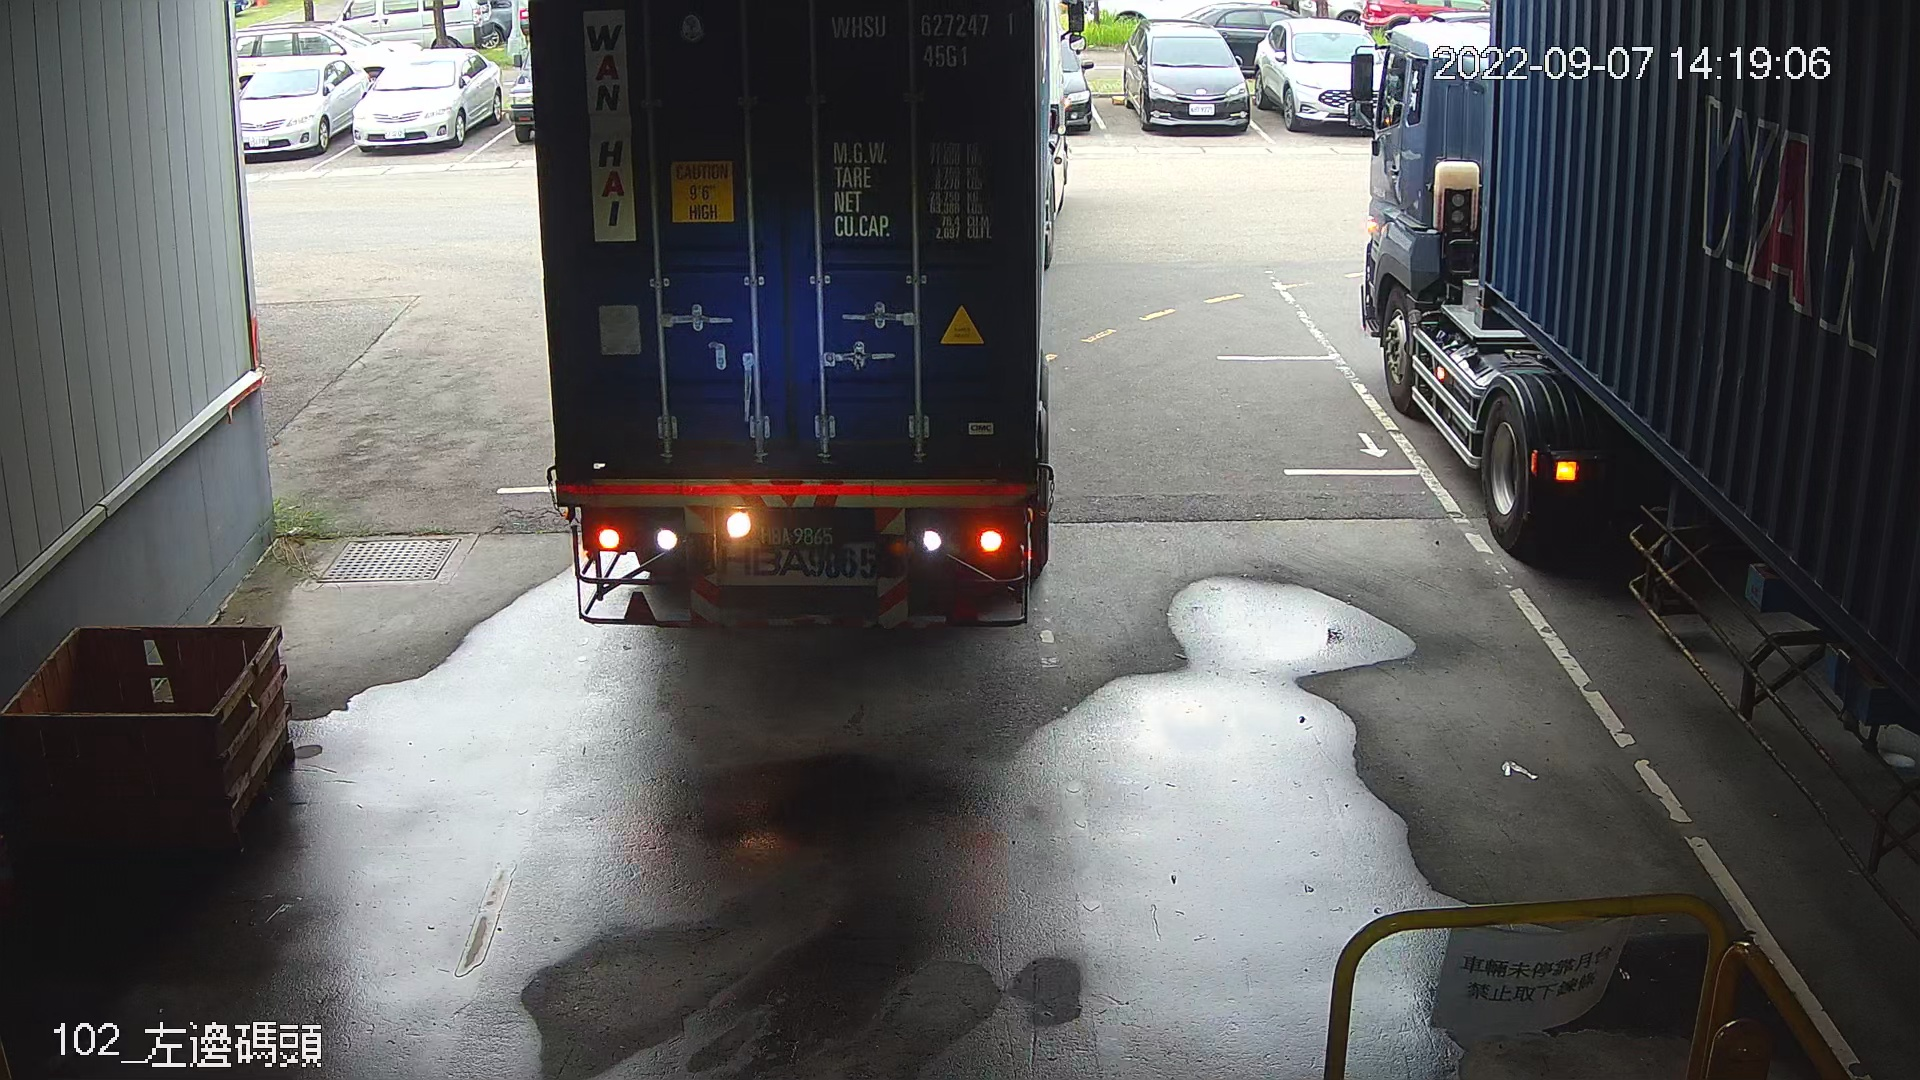container: (825, 5, 1023, 76)
